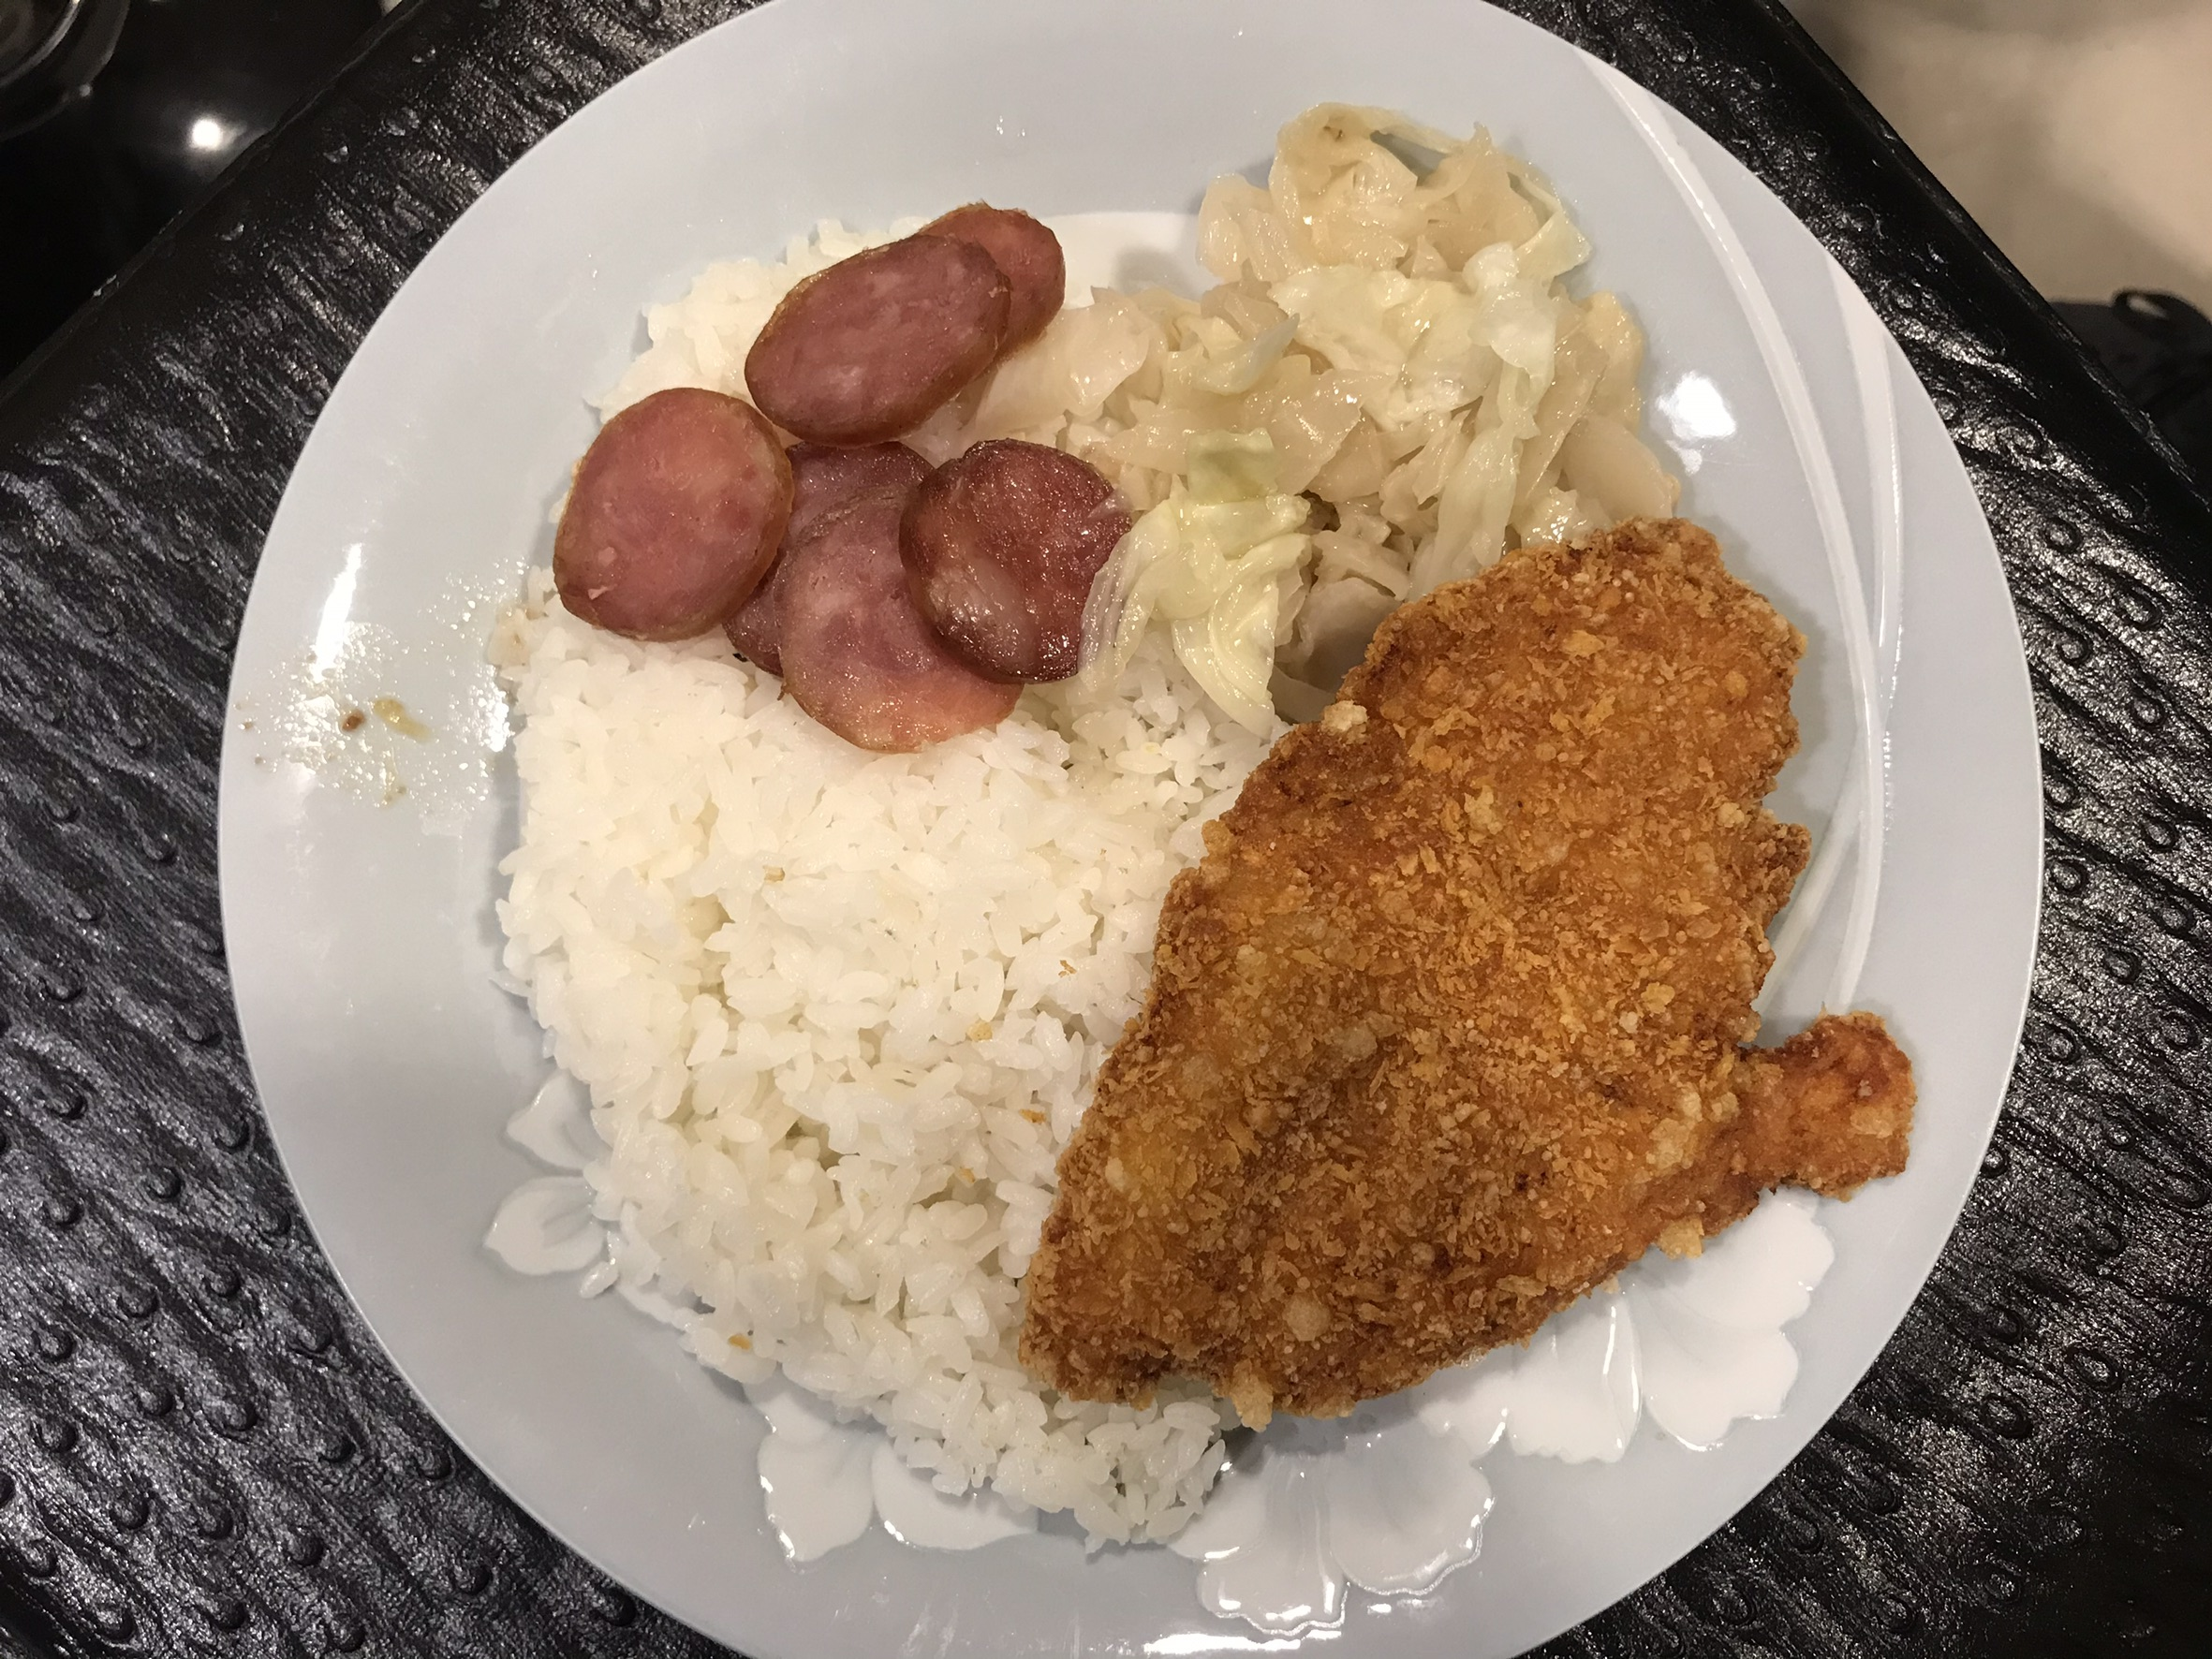chinese_cabbage: (1098, 132, 1598, 669)
chinese_sausage: (551, 206, 1086, 751)
fried_chicken: (1020, 525, 1787, 1398)
rice: (591, 749, 1053, 1300)
